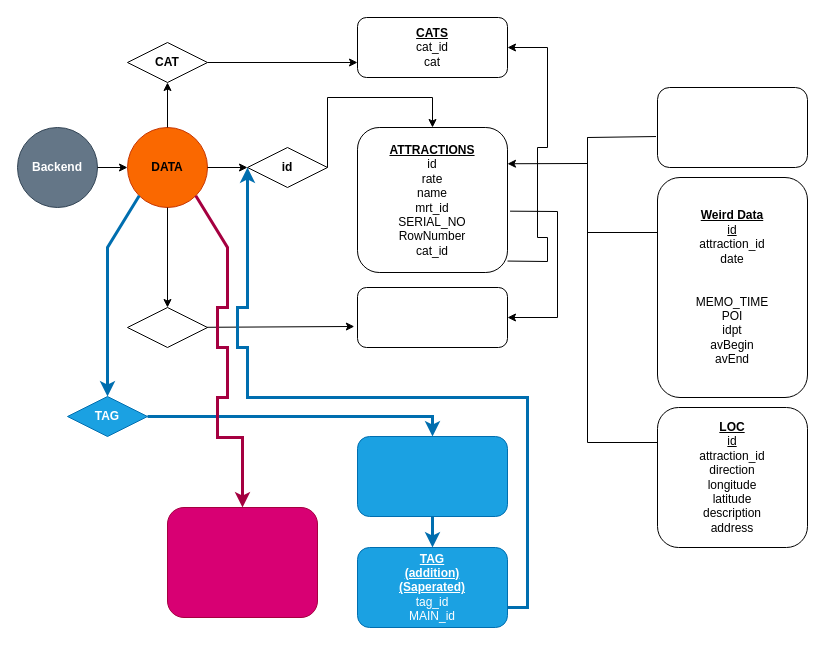
Image size: 825x645. Some labels were removed from this diagram. The shapes that lost their labels are listed below. From the top down, each one's box as (x1, y1, x2, y2) in pixels, then its label:
(656, 86, 808, 168): Files id attraction_id file_url
(126, 306, 208, 348): MRT
(356, 286, 508, 348): MRTS mrt_id mrt
(356, 436, 508, 516): TAG(總表) (addition) tag_id tag_name
(166, 506, 318, 618): AUTH id username passwoed name email
